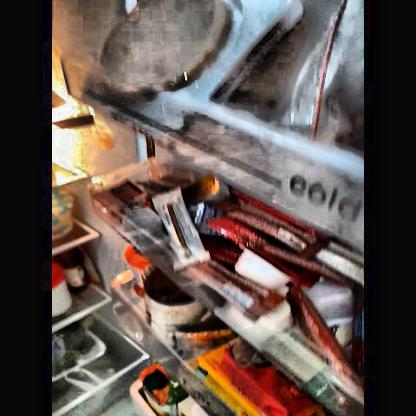salami: (90, 3, 226, 81)
yoghurt: (54, 188, 74, 235)
